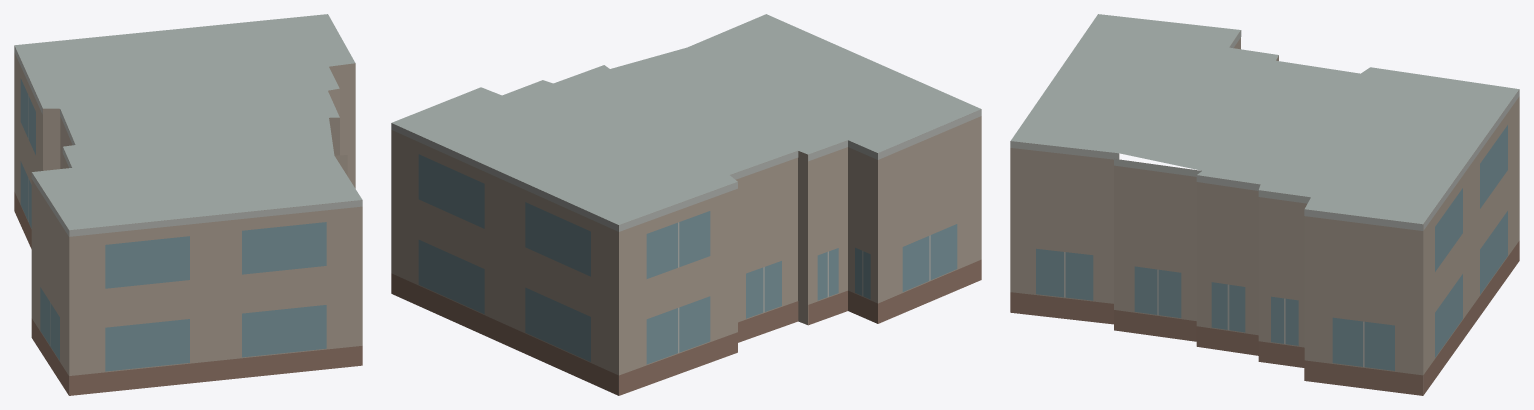
File: survey-upis-32933117.glb
3 renders of one model, left to right at view 1: azimuth 30°, elevation 25°; view 2: azimuth 150°, elevation 25°; view 3: azimuth 270°, elevation 25°, orthographic. The views are drawn at different scales.
Visible parts, largest first — view 1: survey-upis-32933117.tmp; view 2: survey-upis-32933117.tmp; view 3: survey-upis-32933117.tmp.
Part boxes in pixels (x1=…): survey-upis-32933117.tmp: x1=14, y1=14, x2=362, y2=395; survey-upis-32933117.tmp: x1=391, y1=14, x2=981, y2=395; survey-upis-32933117.tmp: x1=1010, y1=14, x2=1519, y2=395.
Size of the model in its own units: 16.04 by 6.1 by 16.41.
